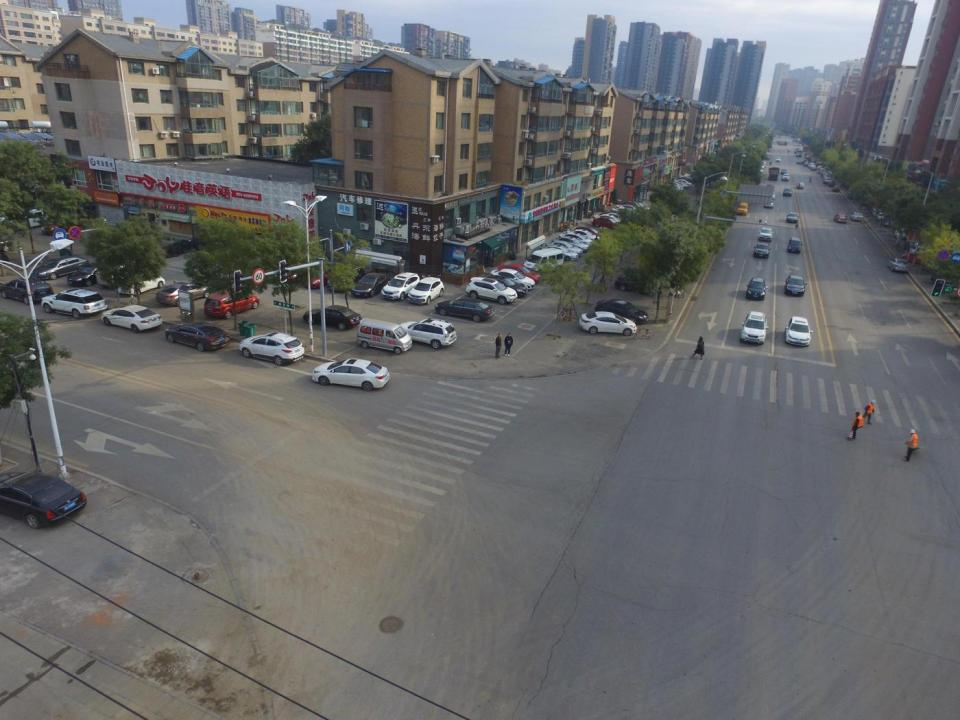car: (0, 468, 86, 532), (310, 358, 389, 389), (238, 332, 305, 364), (41, 288, 106, 320), (164, 320, 230, 351), (203, 284, 261, 317), (401, 317, 458, 350), (66, 256, 120, 288), (33, 251, 89, 280), (301, 304, 361, 331), (597, 296, 651, 326), (156, 277, 208, 308), (0, 275, 52, 306), (103, 305, 162, 332), (465, 277, 516, 307), (577, 312, 637, 337), (434, 300, 496, 322), (294, 260, 338, 289), (488, 268, 535, 295), (482, 272, 525, 301), (380, 272, 420, 303), (118, 269, 165, 295), (326, 262, 364, 293), (352, 270, 392, 298), (408, 277, 446, 305), (613, 272, 657, 294), (740, 311, 768, 345), (502, 264, 542, 286), (20, 204, 54, 229), (785, 316, 813, 346), (542, 244, 578, 262), (555, 236, 589, 253), (552, 240, 584, 257), (745, 278, 769, 300), (562, 232, 594, 248), (570, 229, 600, 246), (785, 276, 808, 298), (574, 226, 604, 241), (592, 216, 621, 231), (888, 258, 909, 274), (753, 243, 770, 259), (790, 236, 804, 254), (760, 226, 774, 241), (786, 212, 800, 225), (851, 212, 865, 223), (737, 202, 748, 215), (834, 215, 849, 224), (783, 187, 793, 197), (763, 199, 774, 208), (766, 191, 775, 201), (797, 183, 806, 190), (782, 174, 789, 181), (828, 180, 836, 186), (834, 186, 840, 193), (781, 169, 787, 175), (775, 157, 781, 163)
truck: (768, 167, 778, 180)
van: (357, 319, 414, 353), (524, 248, 564, 274)
